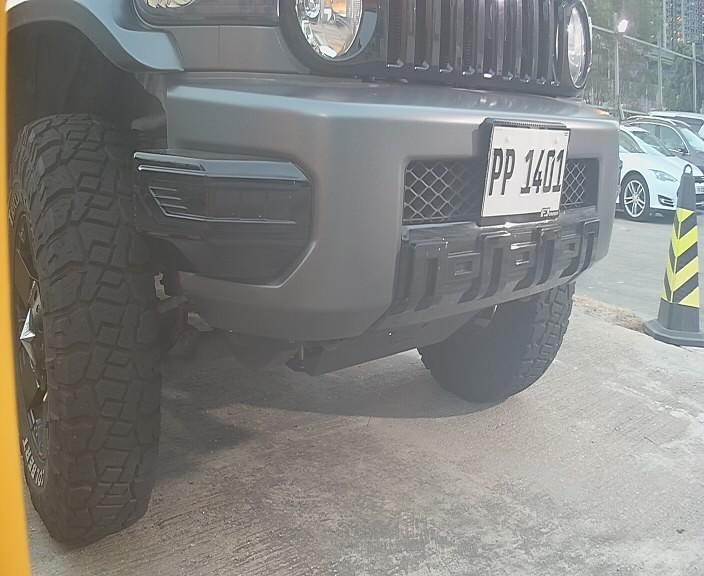Car: (45, 29, 676, 445)
License Plate: (469, 106, 576, 237)
